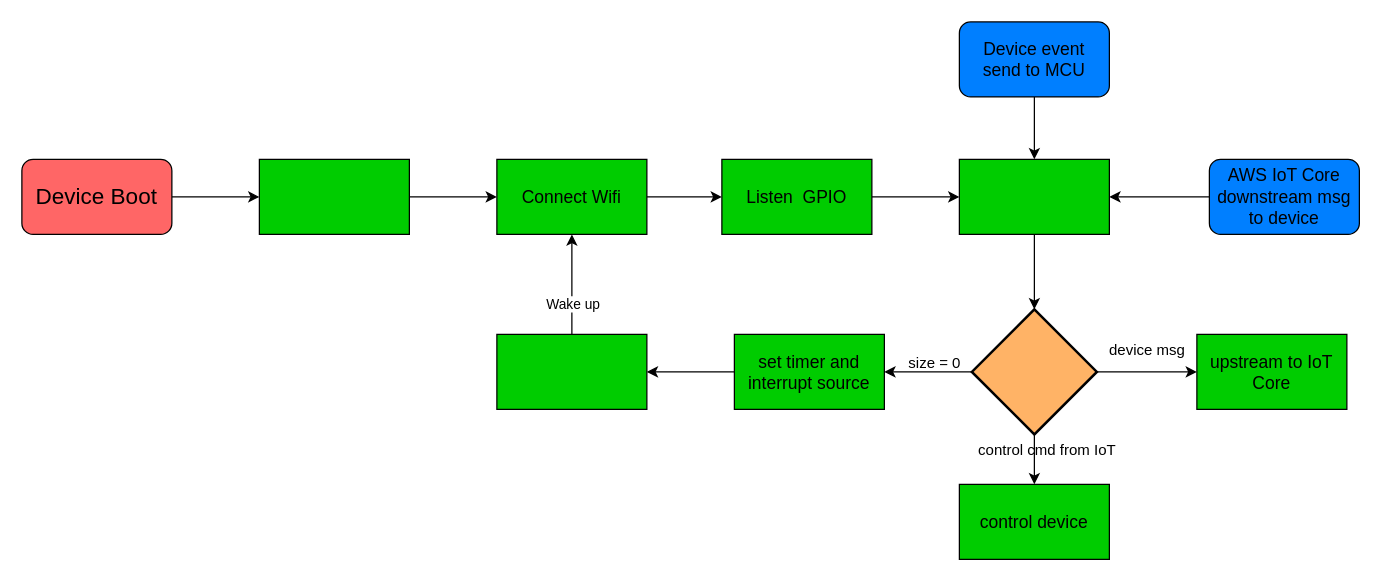
The diagram is 1381 pixels wide and 581 high, and some of its shapes have lost their labels. Each missing label, with the box of its shape:
enter deep sleep mode: (496, 333, 647, 409)
event append to queue: (958, 158, 1109, 234)
event queue size is 0: (970, 308, 1098, 435)
Flash/PSRam Init: (258, 158, 409, 234)
